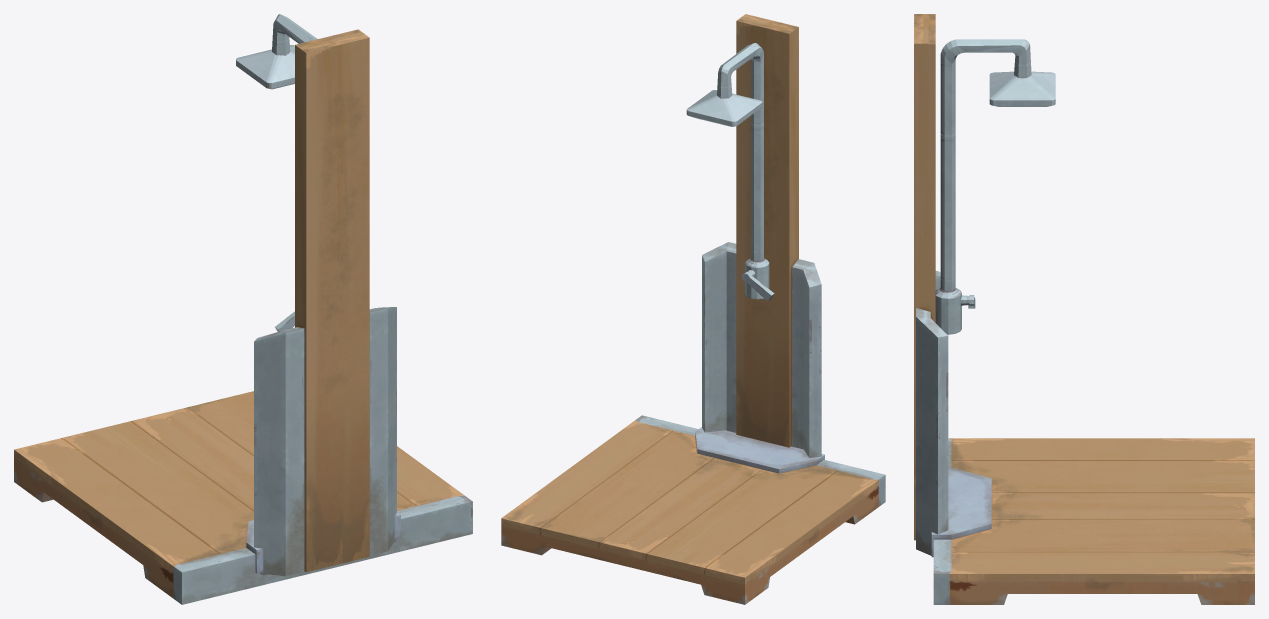
The model's file is P_Shower_001_S1_M01.obj.
3 views of the same model, side by side, from view 1: azimuth 30°, elevation 25°; view 2: azimuth 150°, elevation 25°; view 3: azimuth 270°, elevation 25° (orthographic). The views are drawn at different scales.
Size of the model in its own units: 1.55 by 2.71 by 1.65.
1 material, 1 textured.
